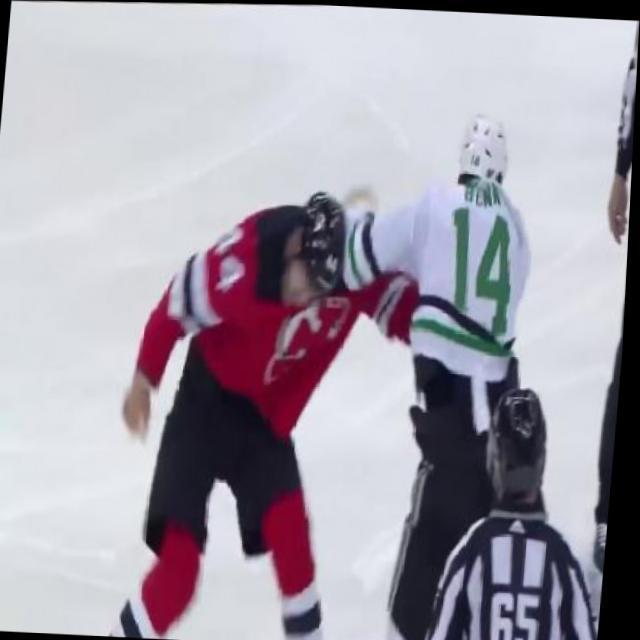fight: (101, 178, 487, 640), (210, 100, 552, 558)
